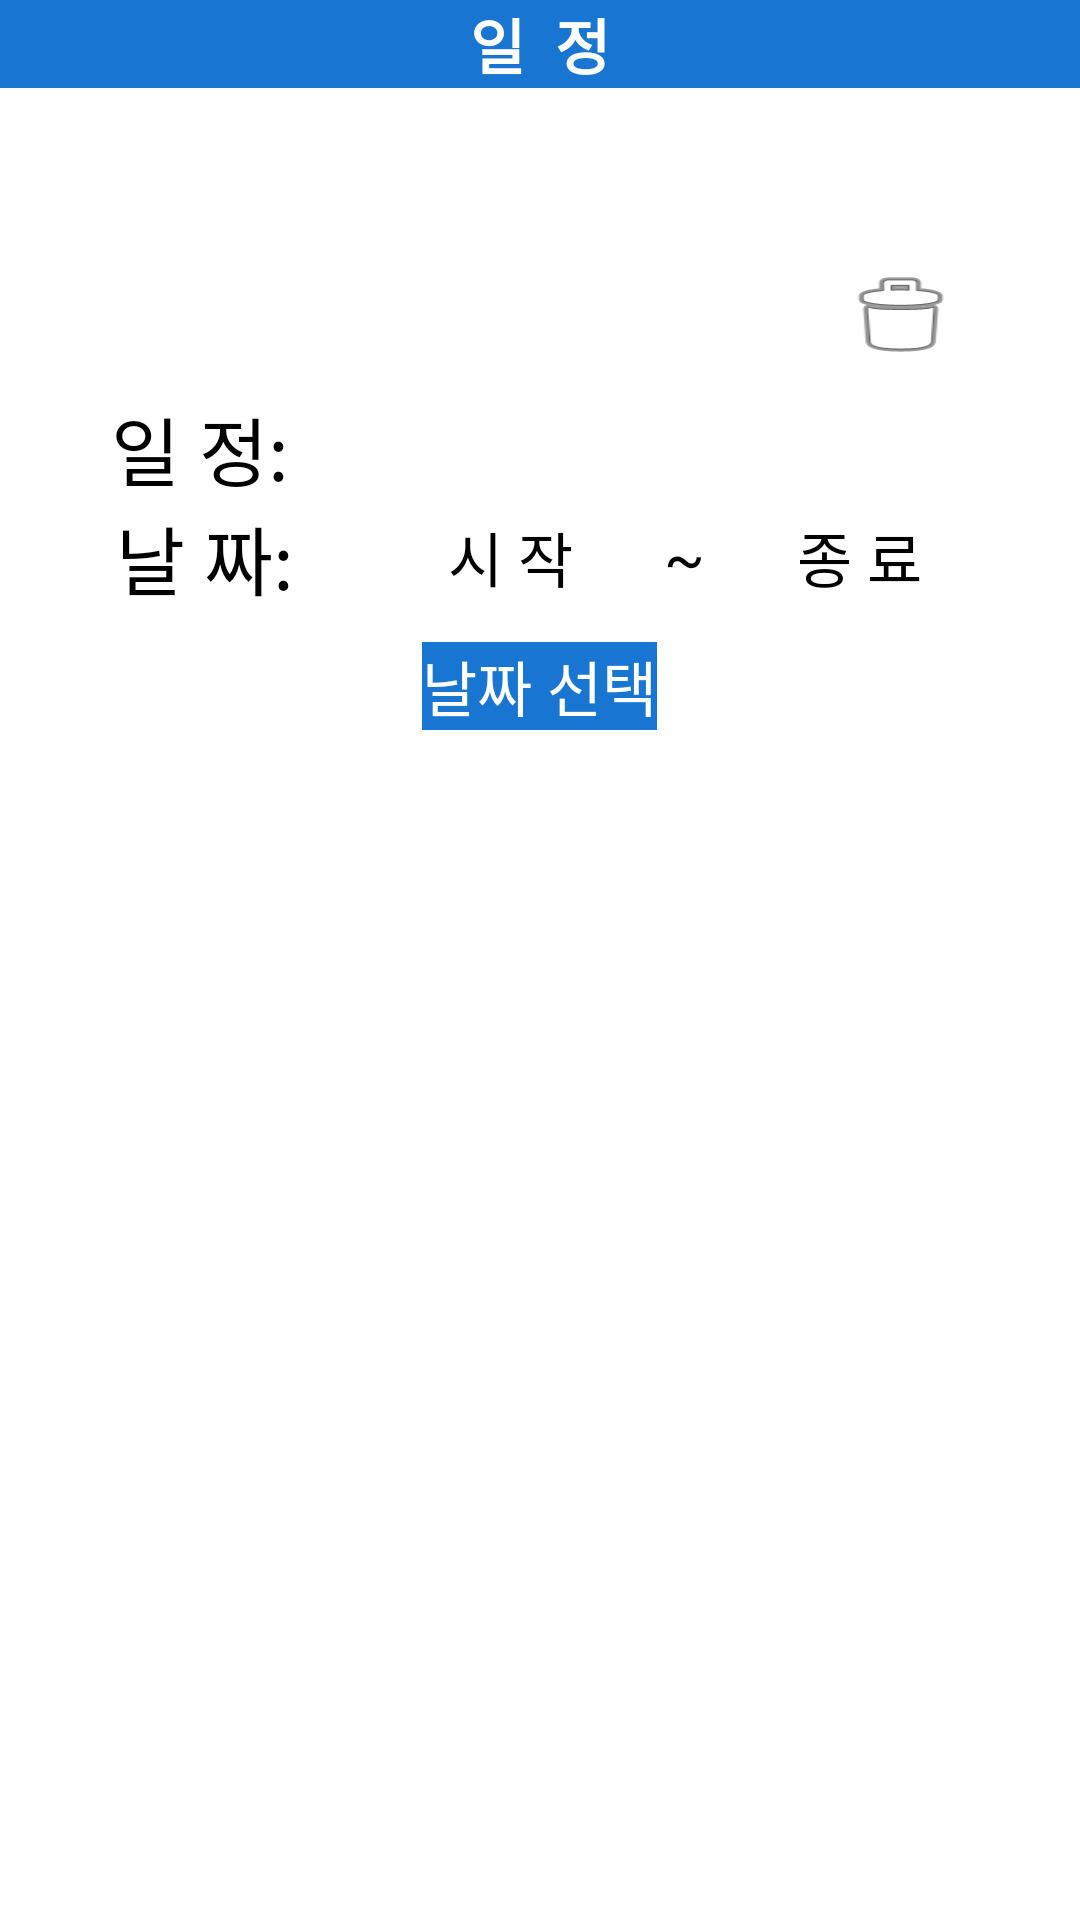

Named icons in this screenshot (1080 x 1920) and their bounding boxes, (x1, y1, x2, y2):
delete: (858, 277, 943, 352)
